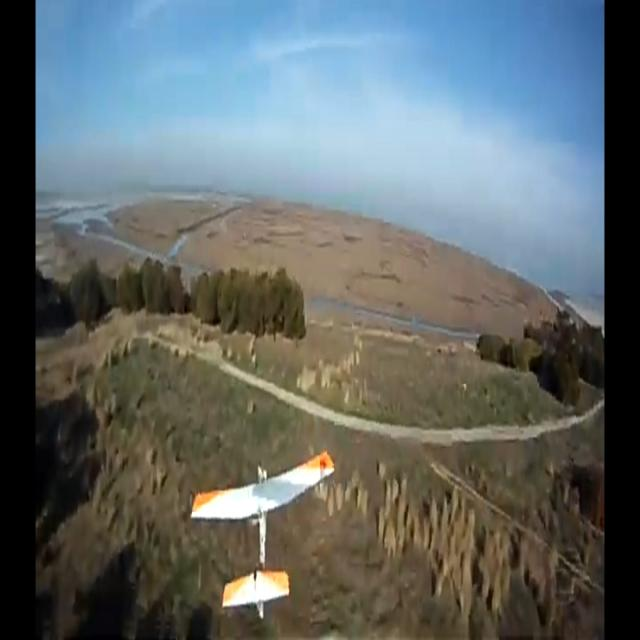iha: (184, 445, 330, 623)
